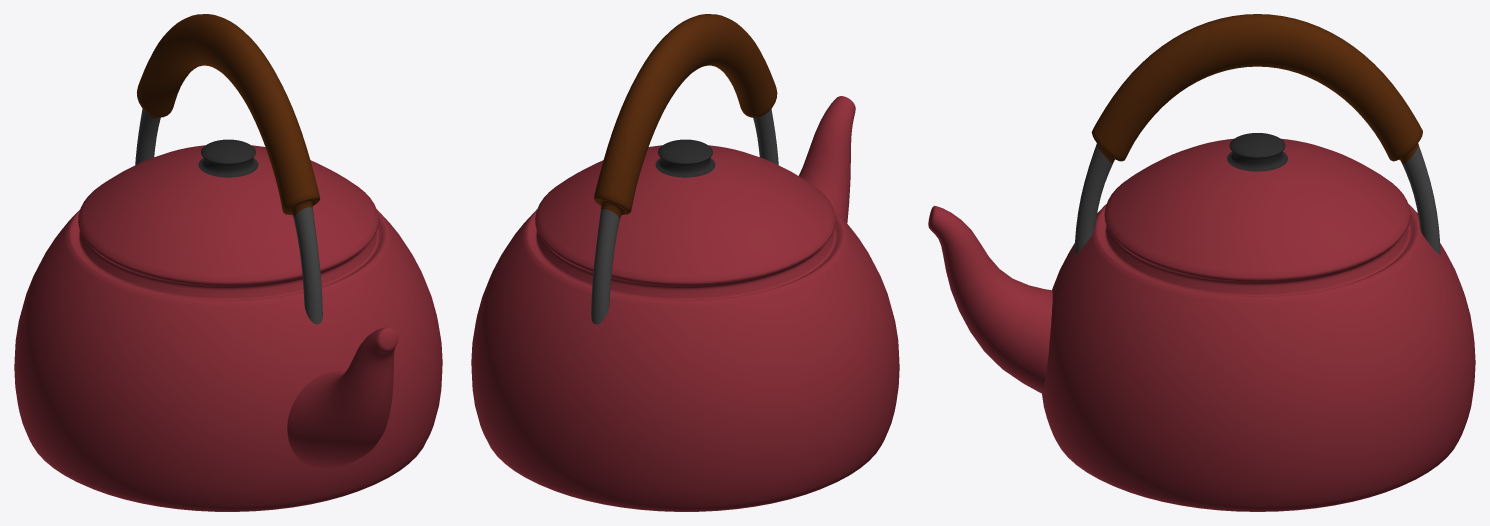
The model's file is geo_kettle.fbx.
3 renders of one model, left to right at view 1: azimuth 30°, elevation 25°; view 2: azimuth 150°, elevation 25°; view 3: azimuth 270°, elevation 25°, orthographic.
Visible parts, largest first — view 1: Cylinder; view 2: Cylinder; view 3: Cylinder.
Part boxes in pixels (left/top/right/bottom): Cylinder: left=14, top=14, right=442, bottom=511; Cylinder: left=471, top=14, right=899, bottom=511; Cylinder: left=928, top=14, right=1475, bottom=511.
Size of the model in its own units: 197 by 206 by 248.
